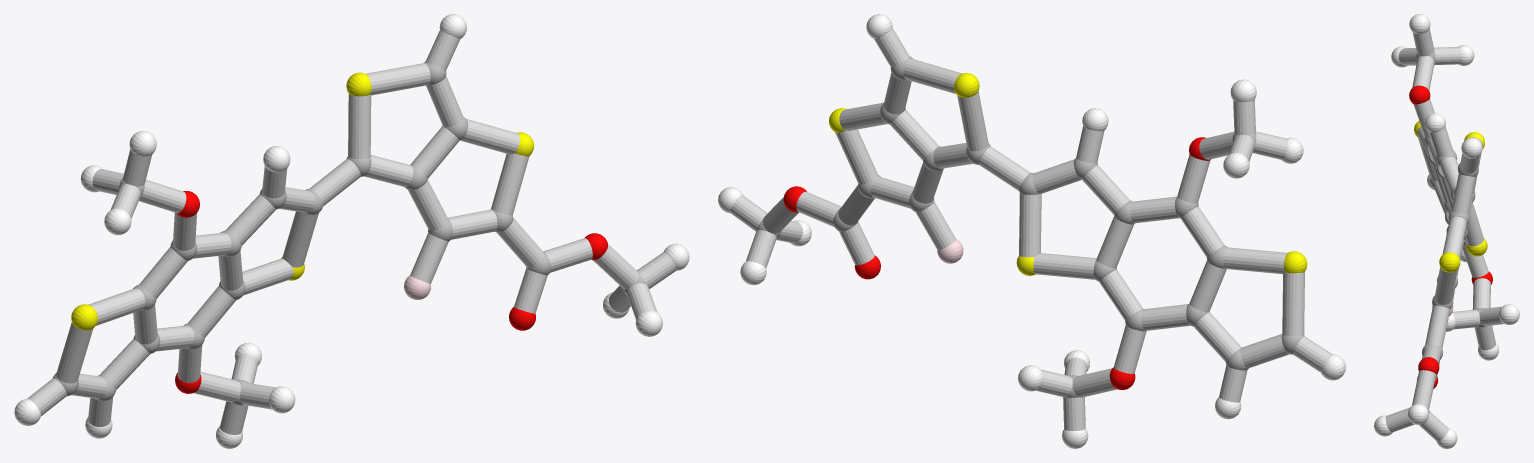
File: color.glb
3 views of the same model, side by side, from view 1: azimuth 30°, elevation 25°; view 2: azimuth 150°, elevation 25°; view 3: azimuth 270°, elevation 25° (orthographic). The views are drawn at different scales.
Parts seen in each view (by area): view 1: grp15205, grp8689, grp1, grp7241, grp13395; view 2: grp15205, grp8689, grp1, grp7241, grp13395; view 3: grp15205, grp8689, grp1, grp7241, grp13395.
Boxes of the visible parts, x1,y1,x2,y2 form: grp15205: (27, 30, 676, 434); grp8689: (14, 14, 689, 448); grp1: (53, 61, 646, 405); grp7241: (71, 72, 534, 330); grp13395: (175, 191, 607, 393); grp15205: (730, 28, 1332, 430); grp8689: (718, 14, 1345, 448); grp1: (757, 56, 1304, 397); grp7241: (829, 73, 1307, 275); grp13395: (783, 137, 1210, 389); grp15205: (1385, 28, 1503, 441); grp8689: (1374, 14, 1519, 448); grp1: (1416, 51, 1485, 413); grp7241: (1414, 121, 1487, 272); grp13395: (1409, 85, 1492, 388).
Bounding box in the file's own units: 16.74 × 9.42 × 4.13.
